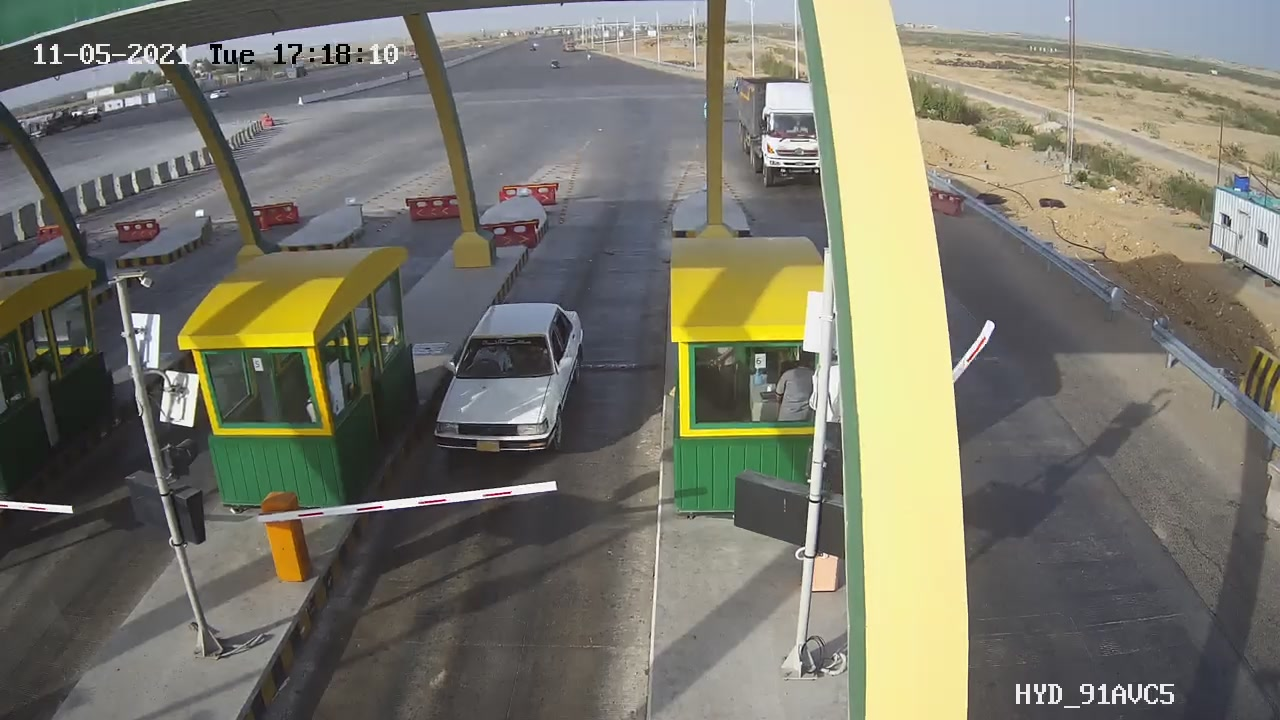F1: (421, 287, 604, 473)
